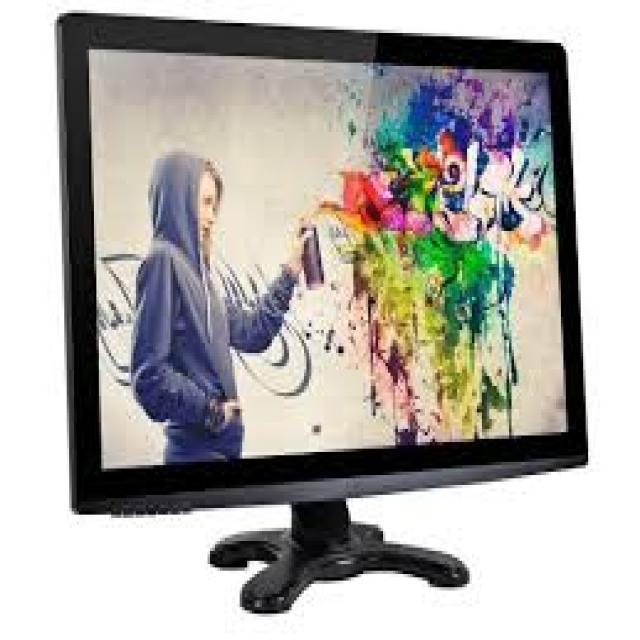monitor: (30, 0, 640, 623)
